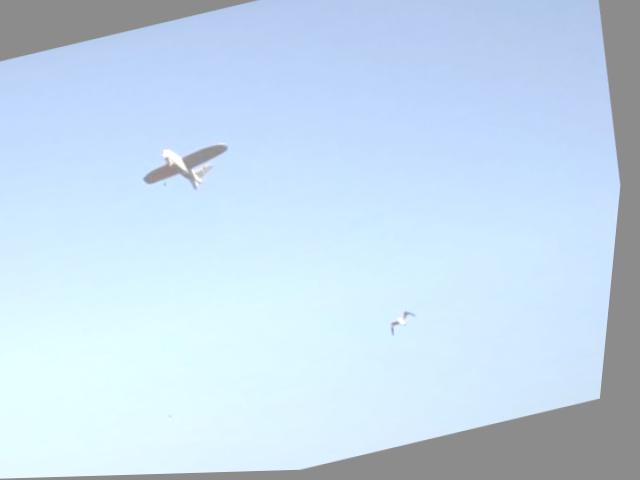iha: (127, 128, 239, 208)
